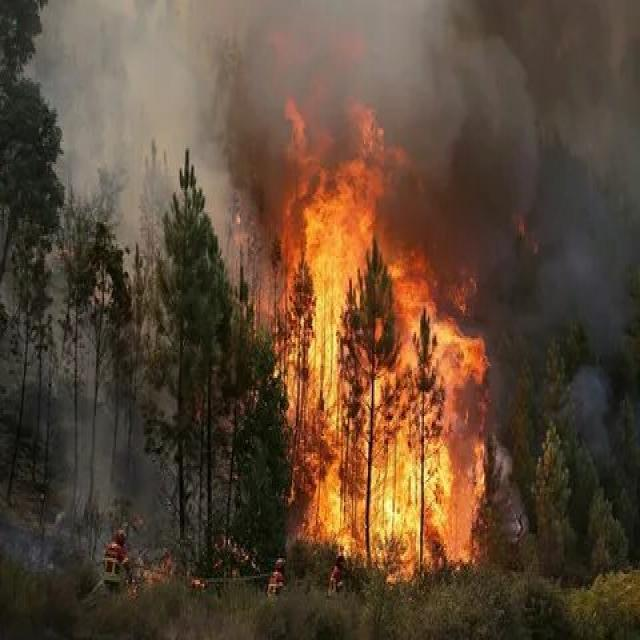Fire: (259, 90, 513, 574)
Smoke: (414, 0, 640, 308)
